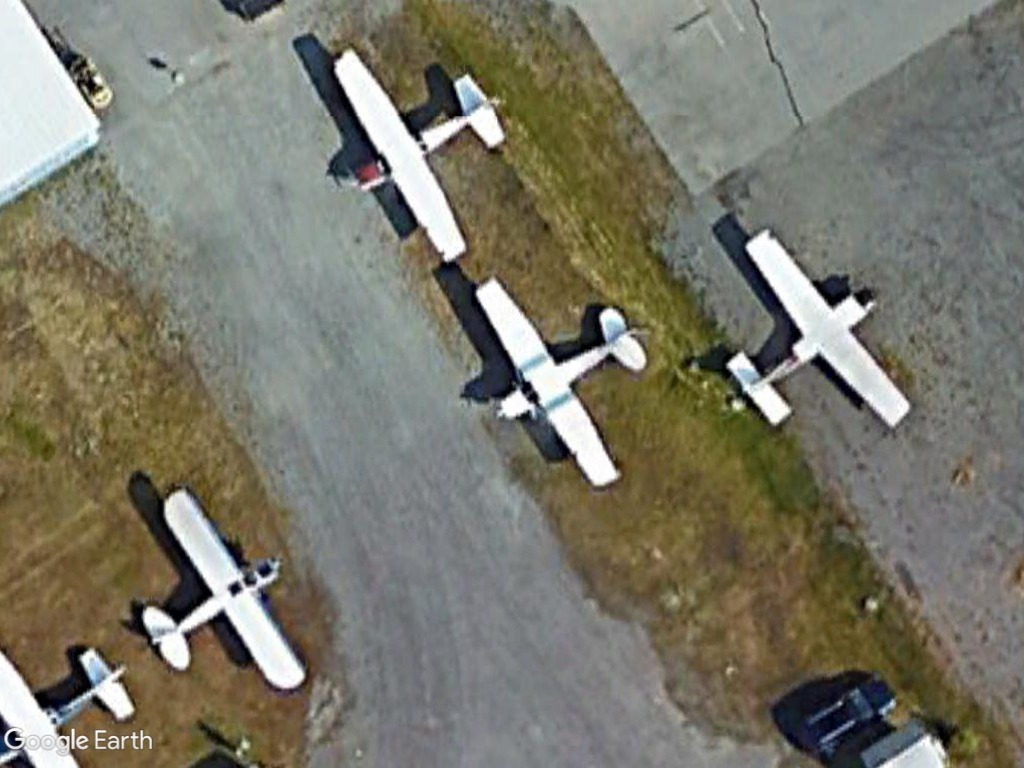car: (800, 674, 902, 761)
trainer: (713, 217, 920, 449), (314, 40, 510, 269), (469, 272, 648, 494), (139, 475, 313, 699)
